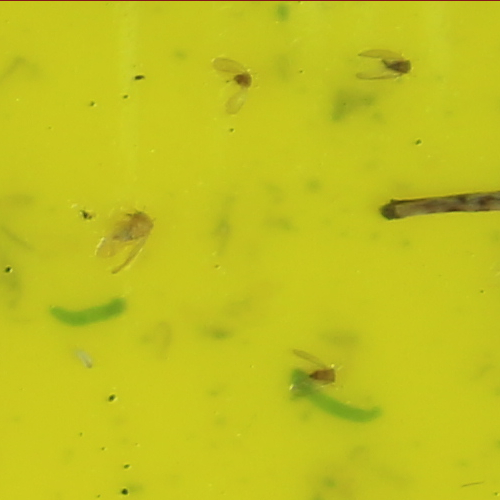psylla: (110, 206, 162, 250), (375, 52, 418, 73), (308, 363, 341, 387), (229, 66, 257, 89)
